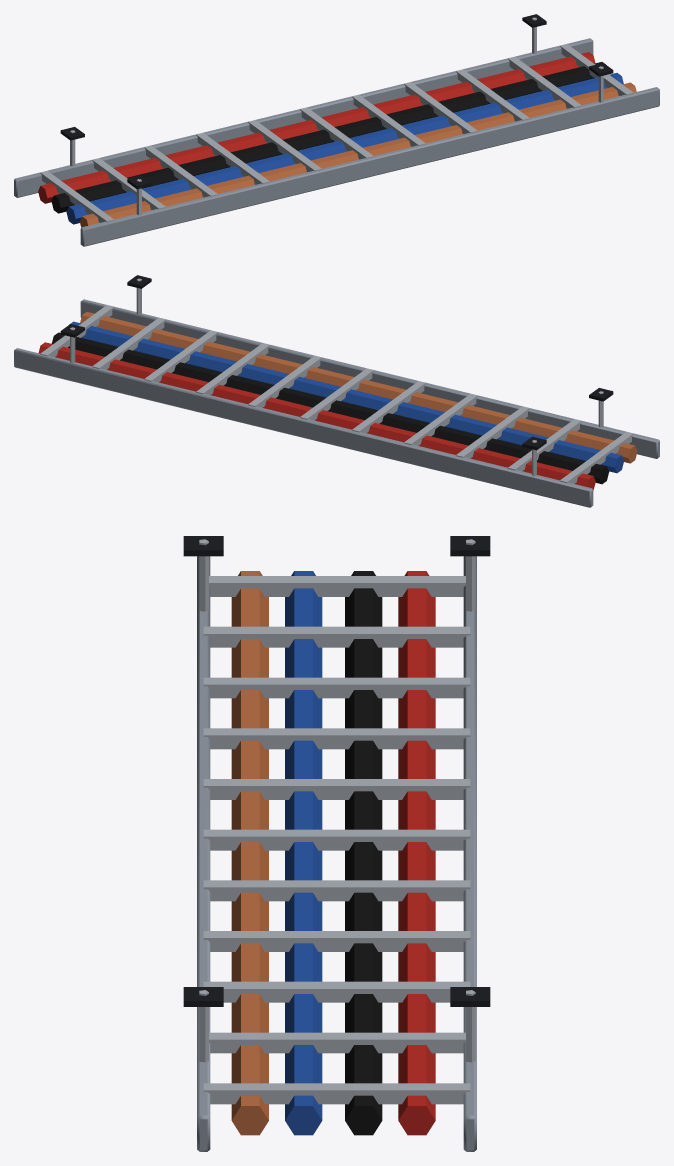
Rendered from cabletray_ladder_tray.glb.
The picture shows the model from 3 angles, top to bottom: view 1: azimuth 30°, elevation 25°; view 2: azimuth 150°, elevation 25°; view 3: azimuth 270°, elevation 25°; orthographic projection. The views are drawn at different scales.
Visible parts, largest first — view 1: cabletray_ladder_tray; view 2: cabletray_ladder_tray; view 3: cabletray_ladder_tray.
Part boxes in pixels (x1=…): cabletray_ladder_tray: x1=14, y1=14, x2=659, y2=246; cabletray_ladder_tray: x1=14, y1=275, x2=659, y2=507; cabletray_ladder_tray: x1=183, y1=536, x2=490, y2=1151.
Bounding box in the file's own units: 2 × 0.173 × 0.46.
